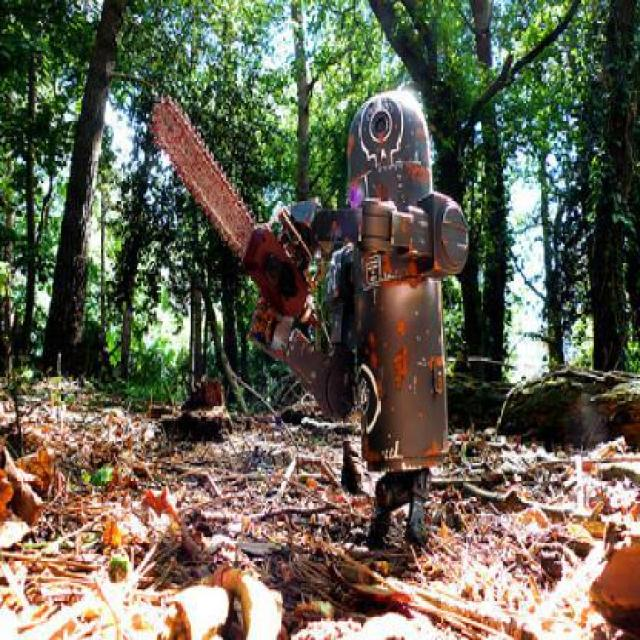Chainsaw: (148, 94, 317, 318)
